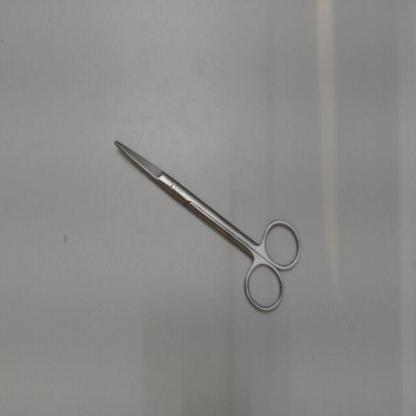Curved Mayo Scissors: (110, 132, 309, 322)
